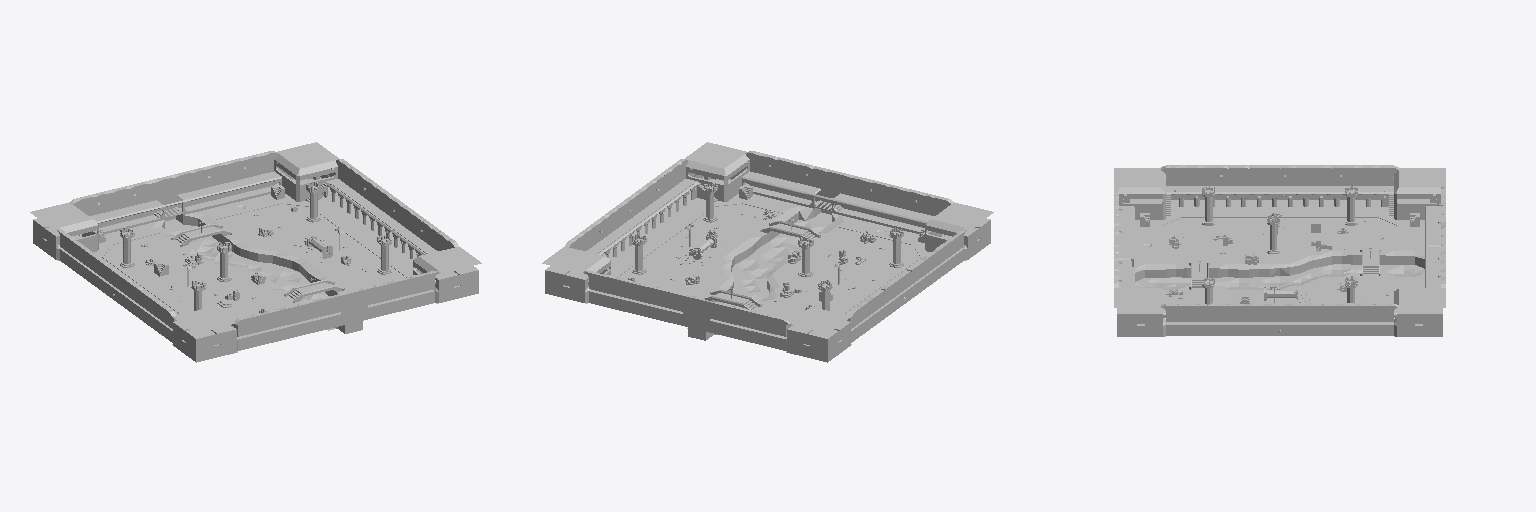
3 renders of one model, left to right at view 1: azimuth 30°, elevation 25°; view 2: azimuth 150°, elevation 25°; view 3: azimuth 270°, elevation 25°, orthographic.
Parts seen in each view (by area): view 1: testMap; view 2: testMap; view 3: testMap.
Boxes of the visible parts, <box> form: testMap: <box>30,142,481,362</box>; testMap: <box>542,142,993,362</box>; testMap: <box>1114,165,1445,336</box>.
Bounding box in the file's own units: 256 × 41 × 256.